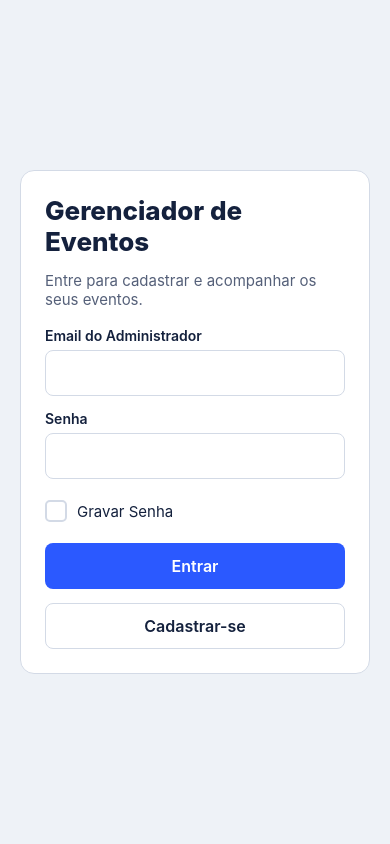
Test: servidor fora do ar: explica o problema de conexão
Type "maria@email.com" into the field named "Email do Administrador".
click(195, 373); type("maria@email.com")  # box top-left (45, 350), bottom-right (345, 396)
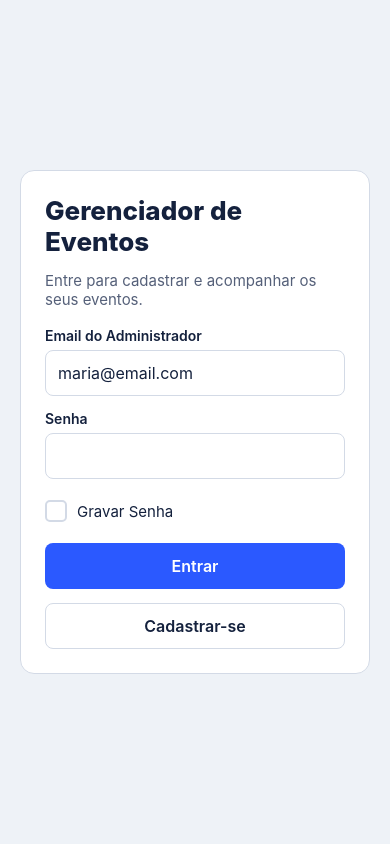
Type "senha123" into the password field named "Senha".
click(195, 456); type("senha123")  # box top-left (45, 433), bottom-right (345, 479)
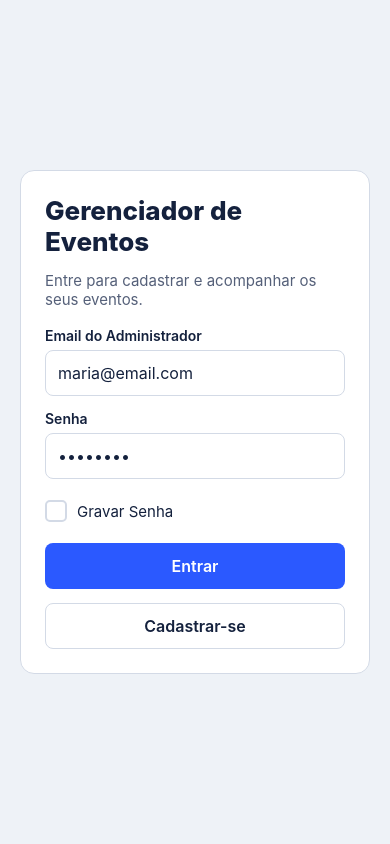
Click the button "Entrar".
click(195, 566)  # box top-left (45, 543), bottom-right (345, 589)
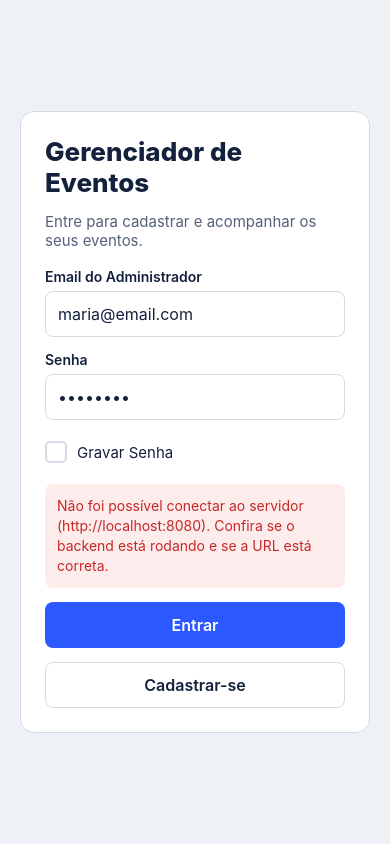
expect the text "Não foi possível conectar ao servidor" is shown: met, box top-left (57, 497), bottom-right (316, 574)
